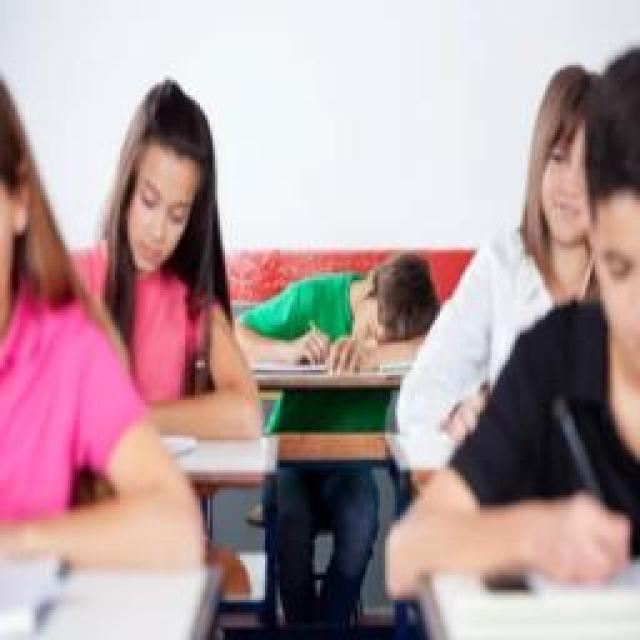sleep: (240, 240, 435, 358)
study: (385, 47, 640, 595), (397, 62, 605, 438), (72, 77, 268, 435)
